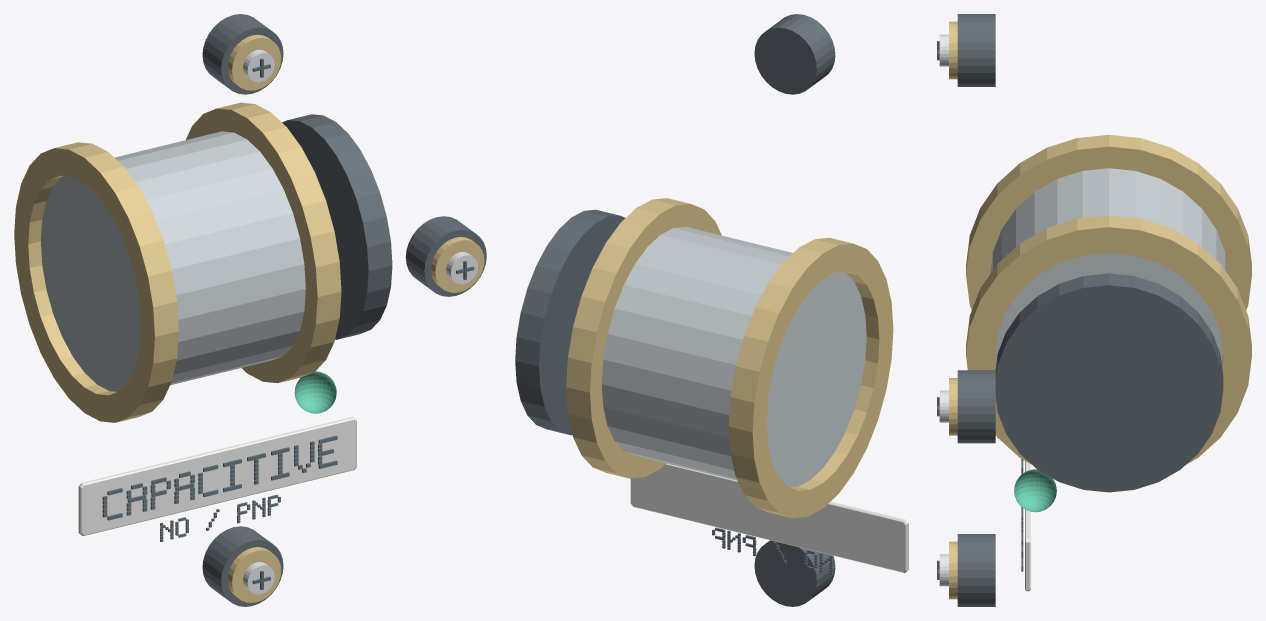
Rendered from capacitiveSensor.glb.
3 views of the same model, side by side, from view 1: azimuth 30°, elevation 25°; view 2: azimuth 150°, elevation 25°; view 3: azimuth 270°, elevation 25° (orthographic).
Visible parts, largest first — view 1: capacitiveSensor-detailed; view 2: capacitiveSensor-detailed; view 3: capacitiveSensor-detailed.
Boxes of the visible parts, box(x1,y1,x2,y2) form: capacitiveSensor-detailed: box(14, 14, 486, 606); capacitiveSensor-detailed: box(515, 14, 908, 606); capacitiveSensor-detailed: box(937, 14, 1251, 606).
Size of the model in its own units: 1.87 by 2.77 by 1.35.
